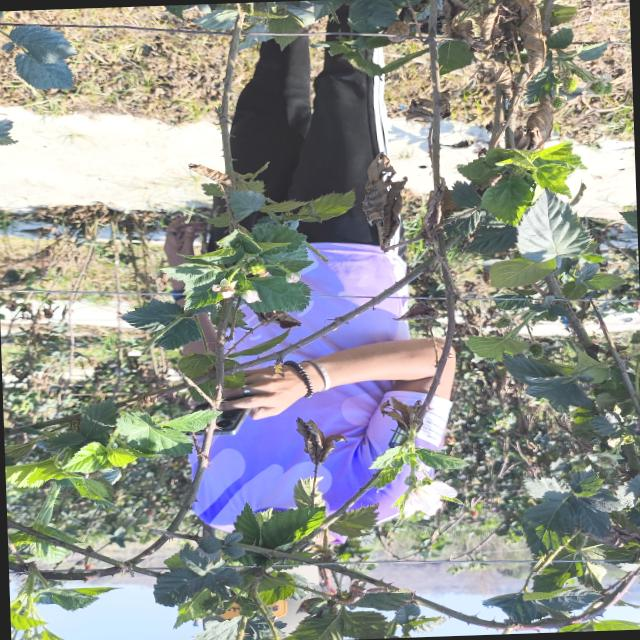flor: (402, 479, 457, 517)
